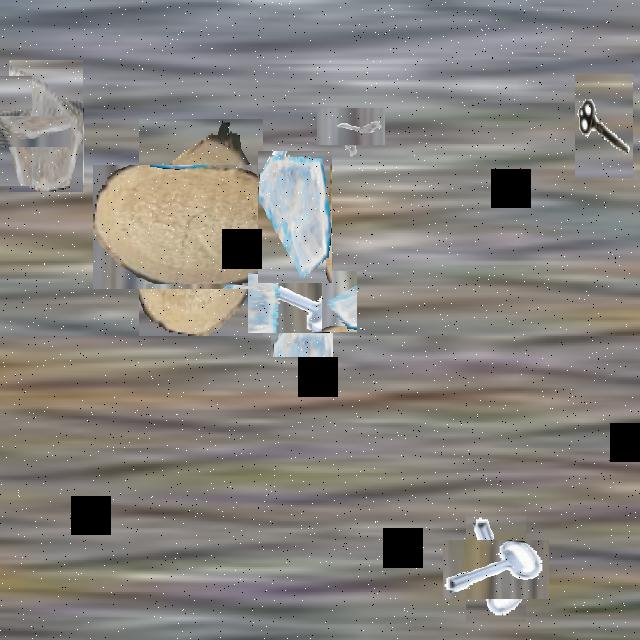glass: (9, 60, 83, 192), (258, 151, 332, 283)
metal: (259, 259, 345, 345), (454, 527, 538, 611), (575, 74, 633, 178), (0, 96, 51, 167), (324, 100, 378, 152)
wood: (116, 142, 286, 313)
